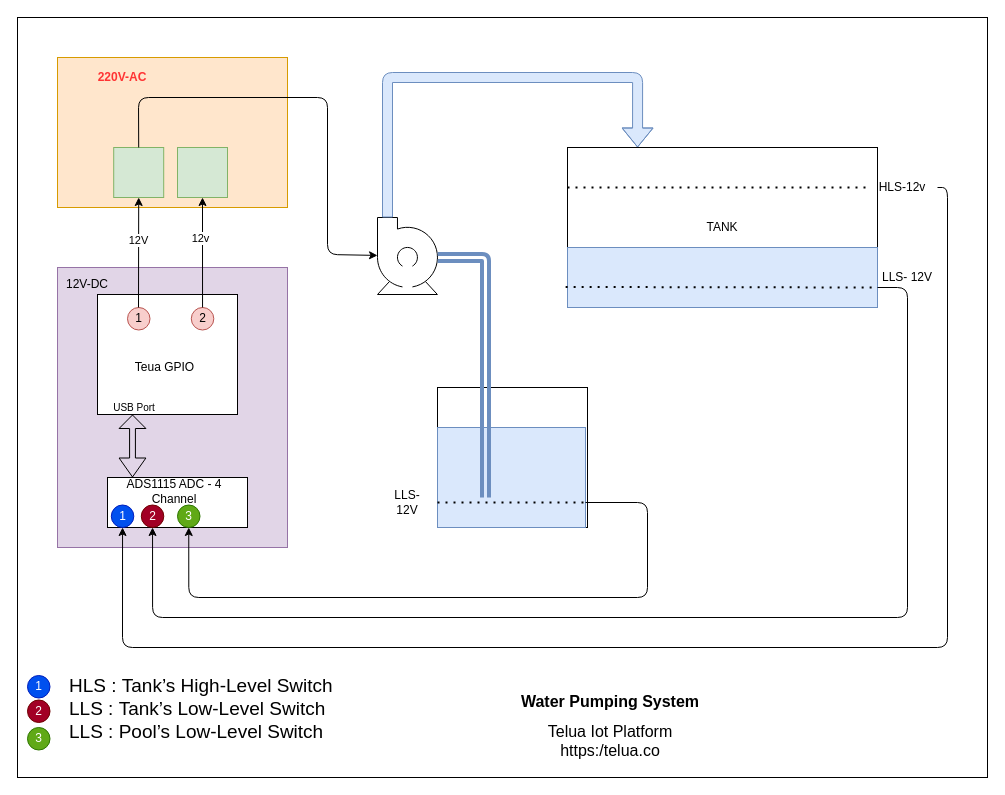
The diagram is 1005 pixels wide and 795 high, and some of its shapes have lost their labels. The centre of each missing label's shape, as x and y in pixels:
POOL: pixel 511 477
Relay01 16A: pixel 138 172
Relay02 16A: pixel 202 172
